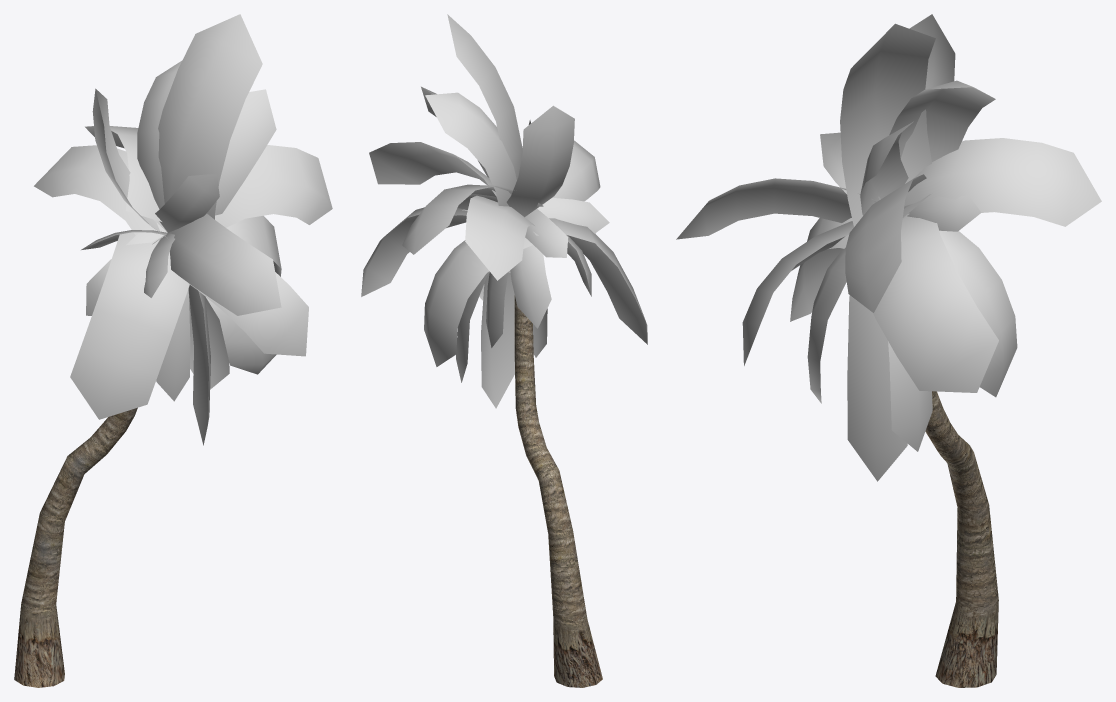
Rendered from palm2.fbx.
3 views of the same model, side by side, from view 1: azimuth 30°, elevation 25°; view 2: azimuth 150°, elevation 25°; view 3: azimuth 270°, elevation 25° (orthographic). The views are drawn at different scales.
Parts seen in each view (by area): view 1: polySurface479; view 2: polySurface479; view 3: polySurface479.
Part boxes in pixels (<box>): polySurface479: <box>14,14,332,687</box>; polySurface479: <box>361,14,647,687</box>; polySurface479: <box>676,14,1101,687</box>.
Size of the model in its own units: 19.81 by 44.2 by 22.8.
